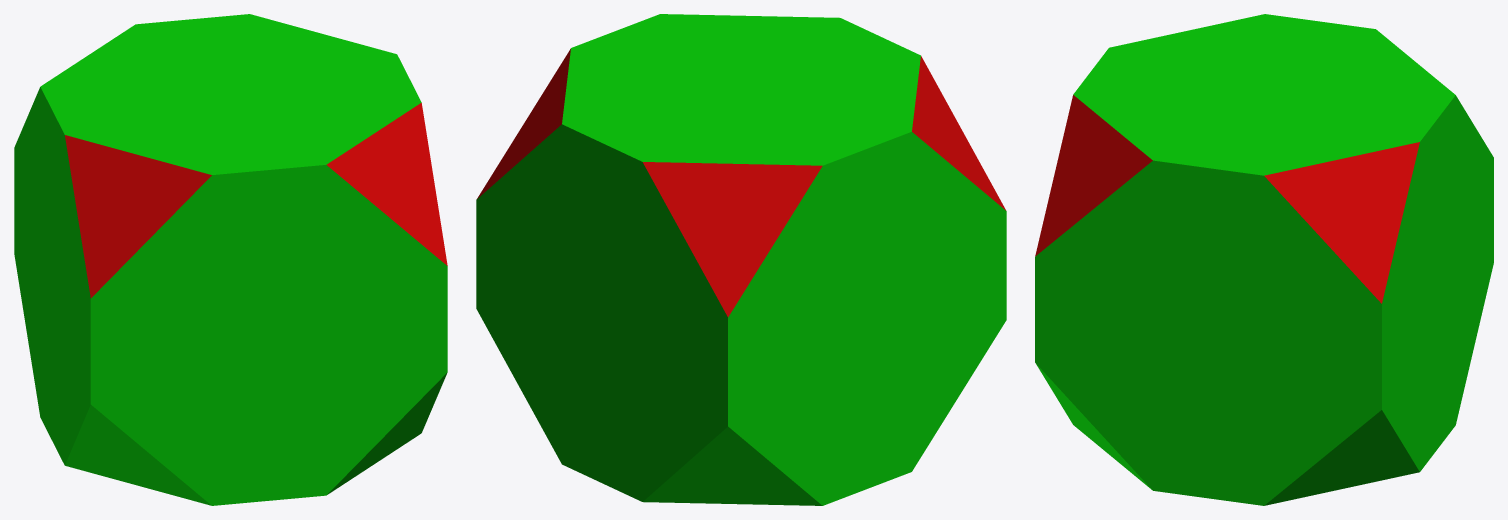
The model's file is anim_cube_000029.obj.
The picture shows the model from 3 angles, left to right: view 1: azimuth 30°, elevation 25°; view 2: azimuth 150°, elevation 25°; view 3: azimuth 270°, elevation 25°; orthographic projection. The views are drawn at different scales.
Visible parts, largest first — view 1: Cube_Cube.002_Material.002, Cube_Cube.002_Material.001; view 2: Cube_Cube.002_Material.002, Cube_Cube.002_Material.001; view 3: Cube_Cube.002_Material.002, Cube_Cube.002_Material.001.
Part boxes in pixels (x1,y1,x2,y2): Cube_Cube.002_Material.002: (14, 14, 447, 505); Cube_Cube.002_Material.001: (65, 103, 447, 298); Cube_Cube.002_Material.002: (476, 14, 1006, 505); Cube_Cube.002_Material.001: (477, 48, 1006, 317); Cube_Cube.002_Material.002: (1035, 14, 1493, 505); Cube_Cube.002_Material.001: (1035, 95, 1419, 303).
Size of the model in its own units: 3.9 by 3.09 by 3.9.
